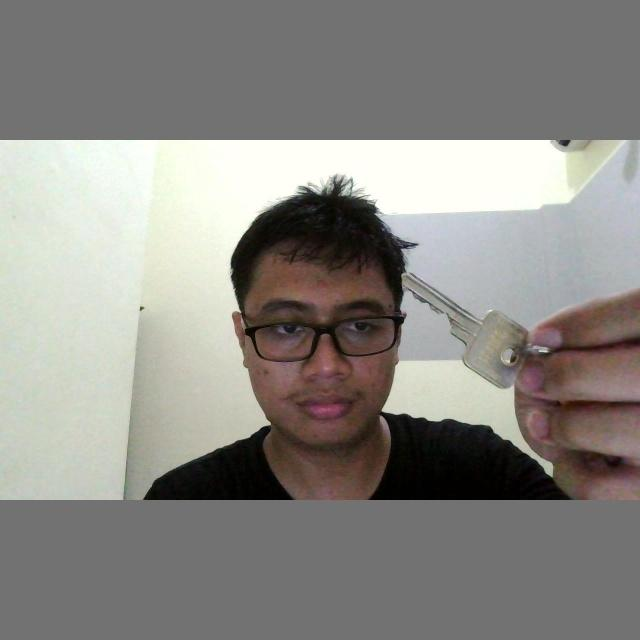Keys: (396, 268, 540, 392)
